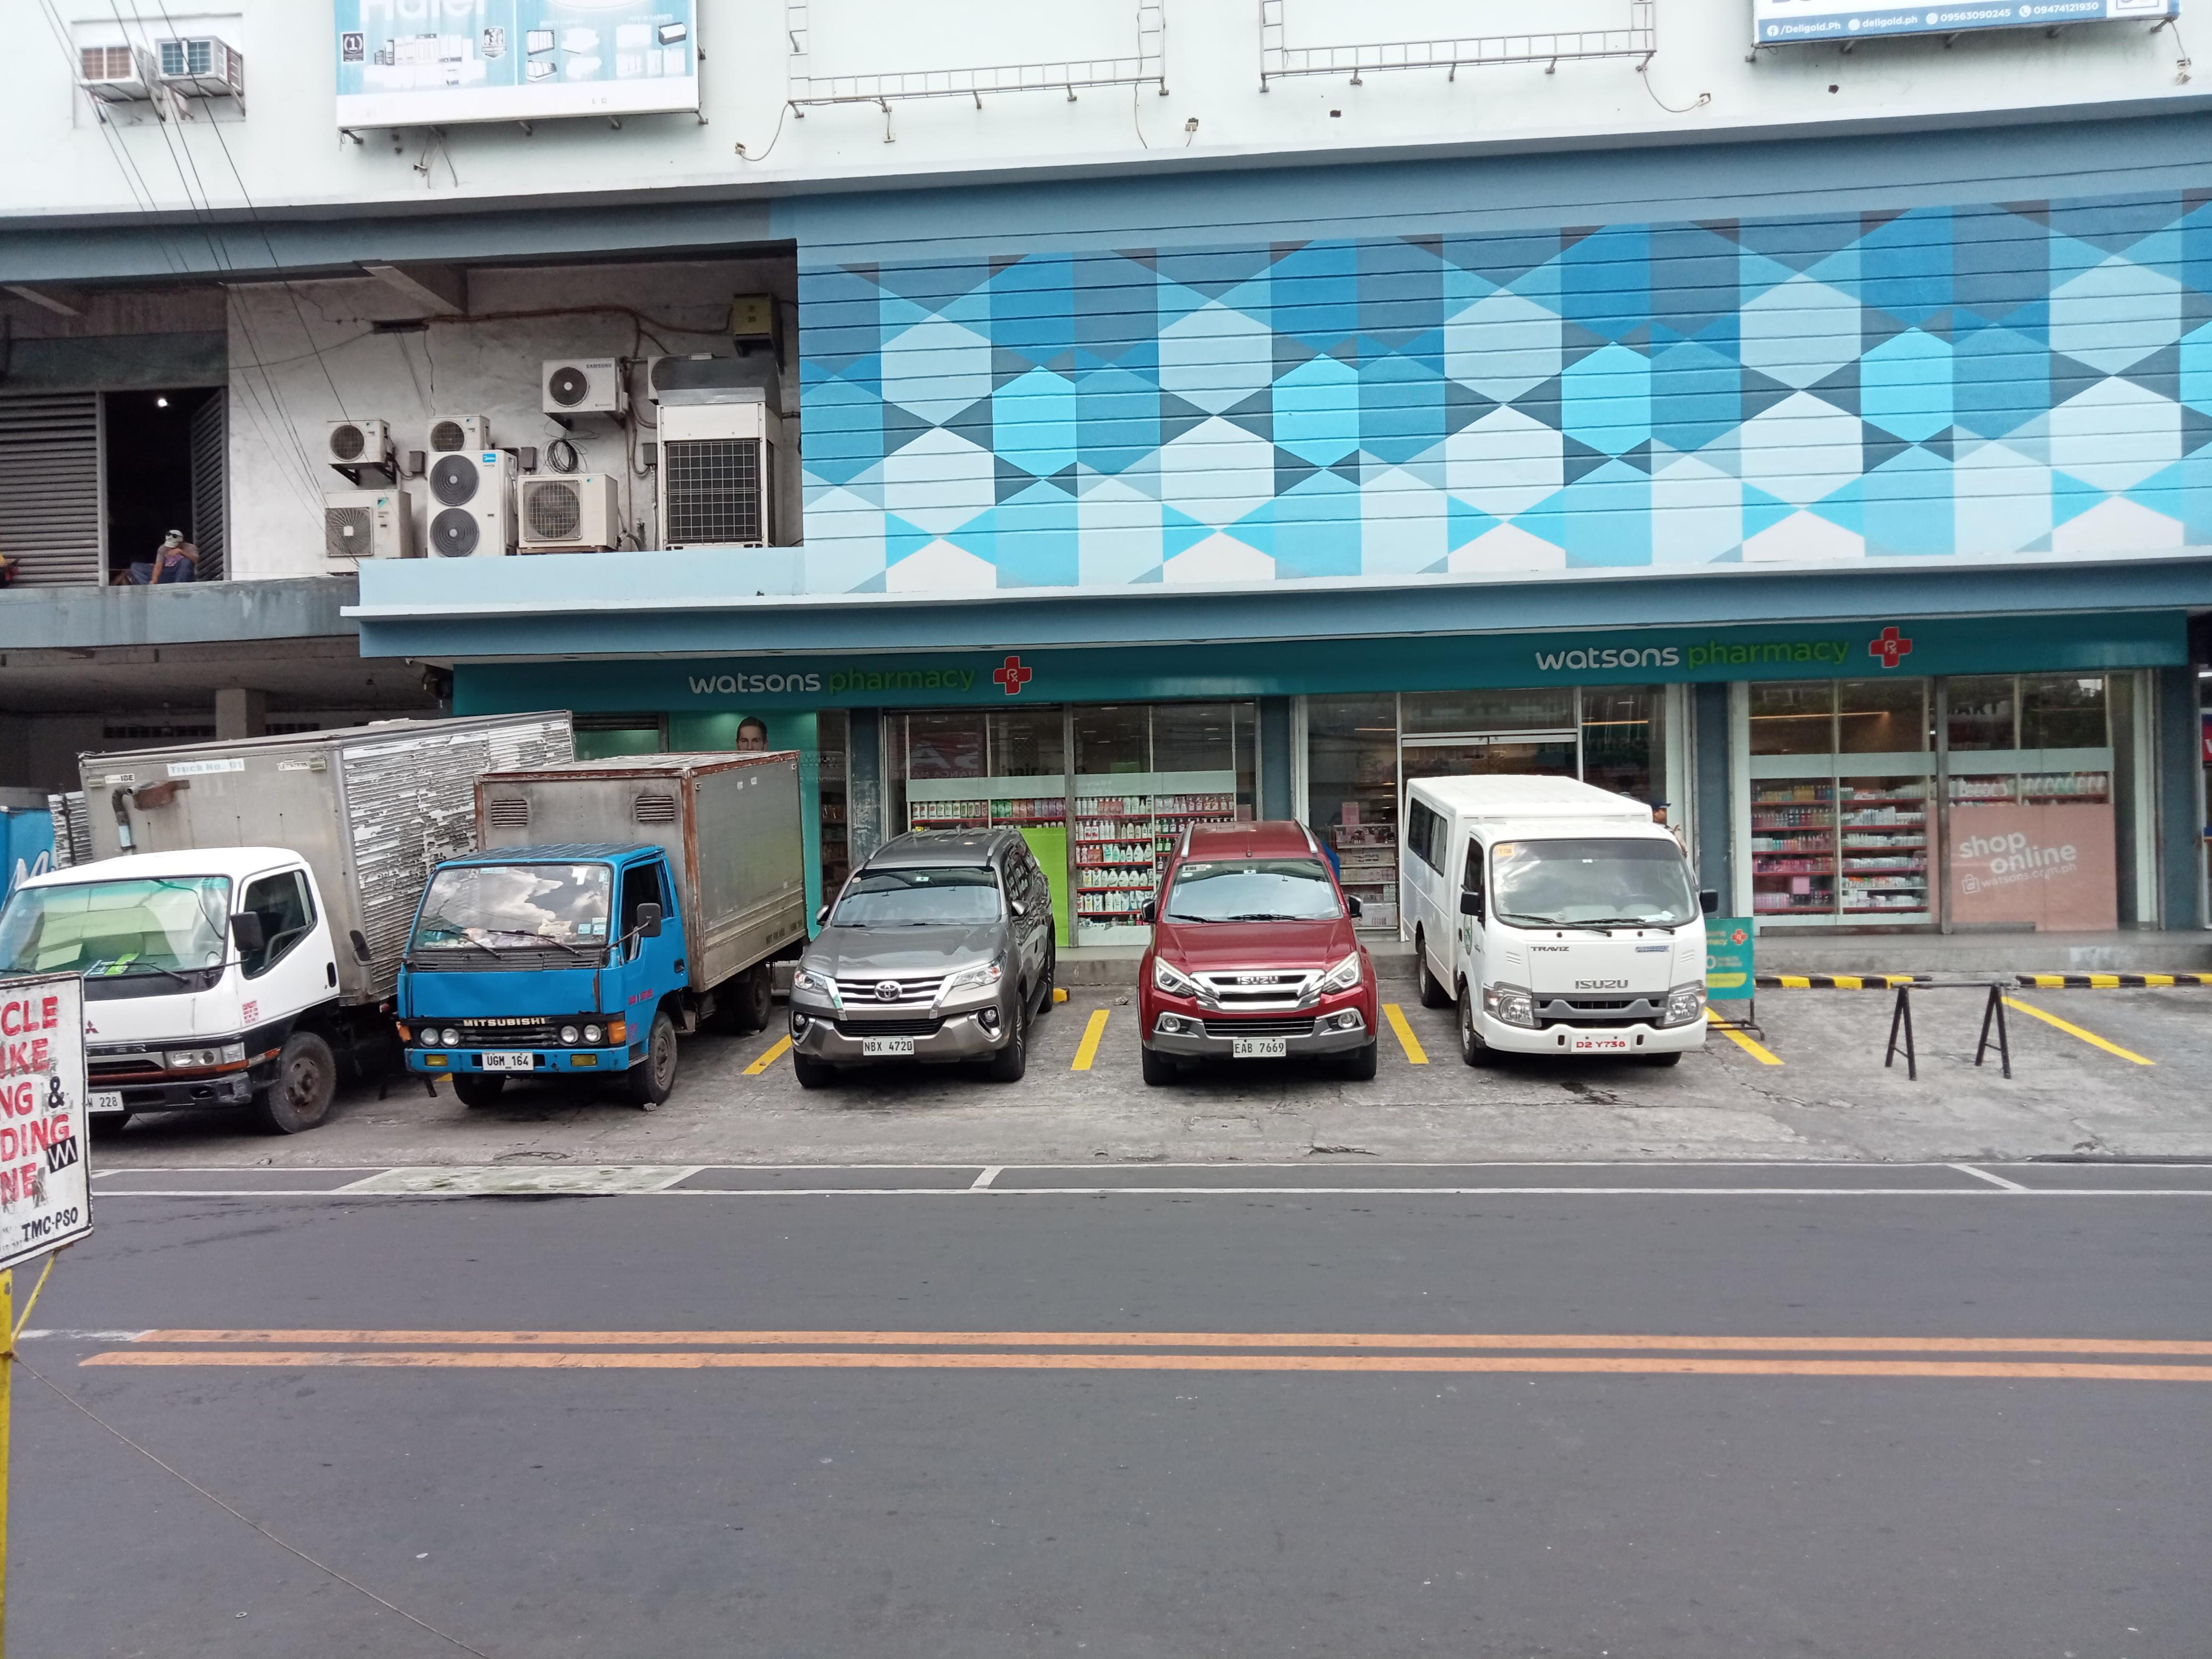occupied: (1371, 992, 1806, 1072), (737, 988, 1118, 1077), (1066, 999, 1435, 1072)
